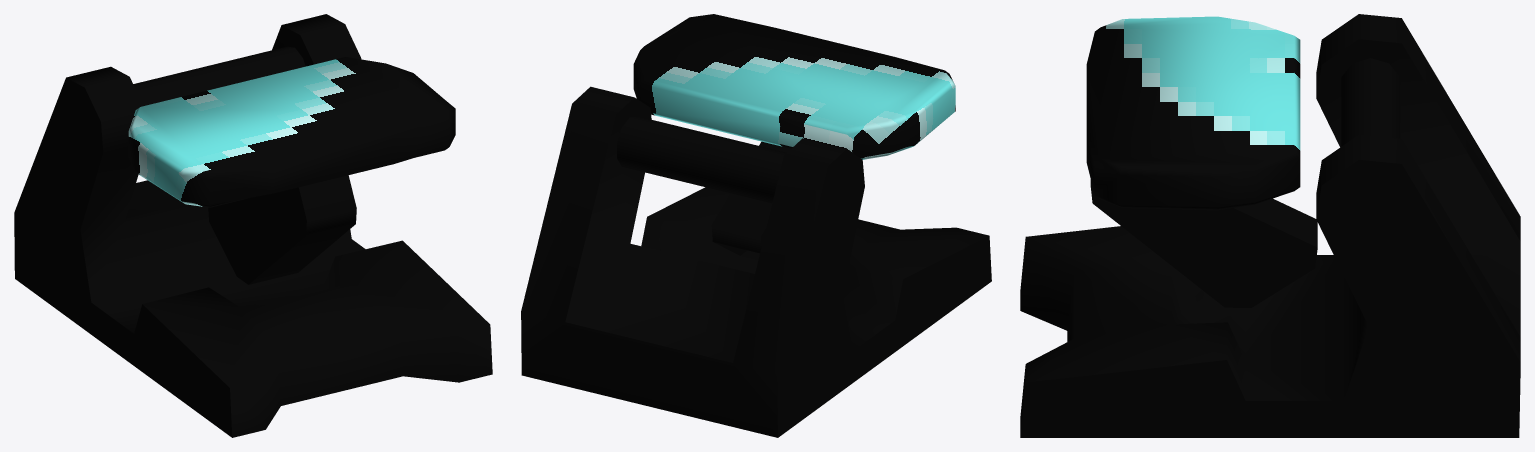
File: junkrat_trap_middle.obj
3 views of the same model, side by side, from view 1: azimuth 30°, elevation 25°; view 2: azimuth 150°, elevation 25°; view 3: azimuth 270°, elevation 25° (orthographic). The views are drawn at different scales.
Visible parts, largest first — view 1: Submesh_0.1.1264A04DE527E415; view 2: Submesh_0.1.1264A04DE527E415; view 3: Submesh_0.1.1264A04DE527E415.
Boxes of the visible parts, left/top/right/bottom form: Submesh_0.1.1264A04DE527E415: left=14, top=14, right=492, bottom=437; Submesh_0.1.1264A04DE527E415: left=521, top=14, right=991, bottom=437; Submesh_0.1.1264A04DE527E415: left=1020, top=14, right=1520, bottom=437.
Size of the model in its own units: 0.3543 by 0.292 by 0.4762.
